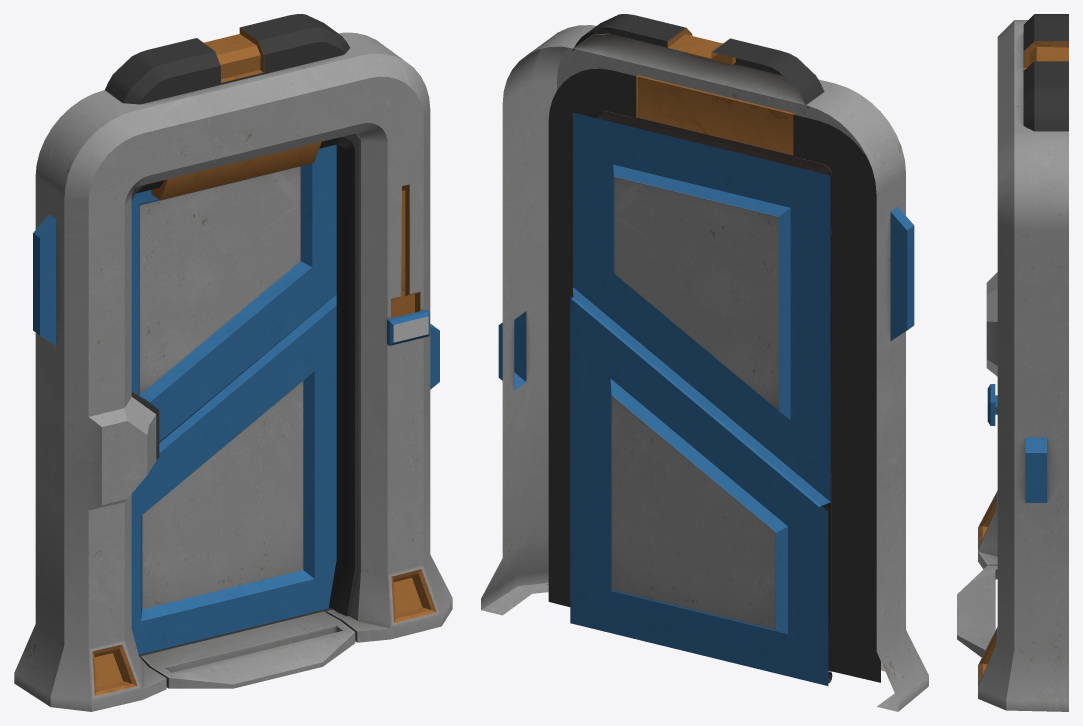
Rendered from LabDoor1.fbx.
3 renders of one model, left to right at view 1: azimuth 30°, elevation 25°; view 2: azimuth 150°, elevation 25°; view 3: azimuth 270°, elevation 25°, orthographic. The views are drawn at different scales.
Parts seen in each view (by area): view 1: LabDoor1; view 2: LabDoor1; view 3: LabDoor1.
Boxes of the visible parts, box(x1,y1,x2,y2) form: LabDoor1: box(14, 14, 452, 711); LabDoor1: box(481, 14, 928, 711); LabDoor1: box(957, 14, 1068, 711).
Bounding box in the file's own units: 212 × 299 × 53.42.
